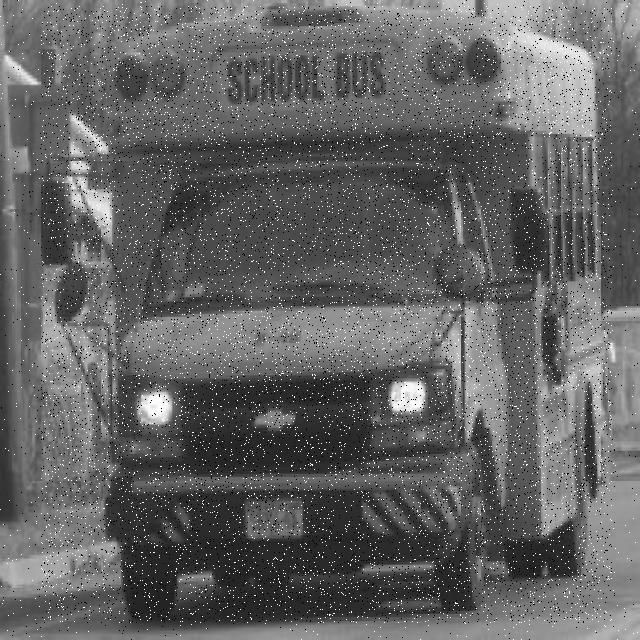Bus- Small: (41, 6, 612, 623)
